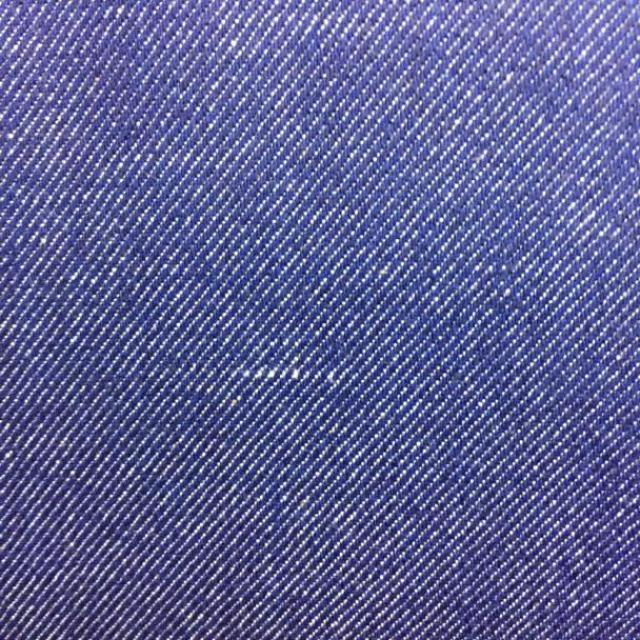Knot: (233, 365, 314, 383), (313, 371, 335, 382)
